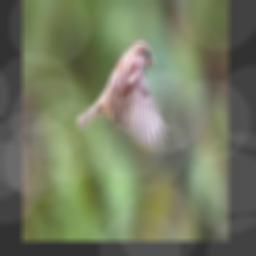Sparrow: (78, 40, 170, 151)
